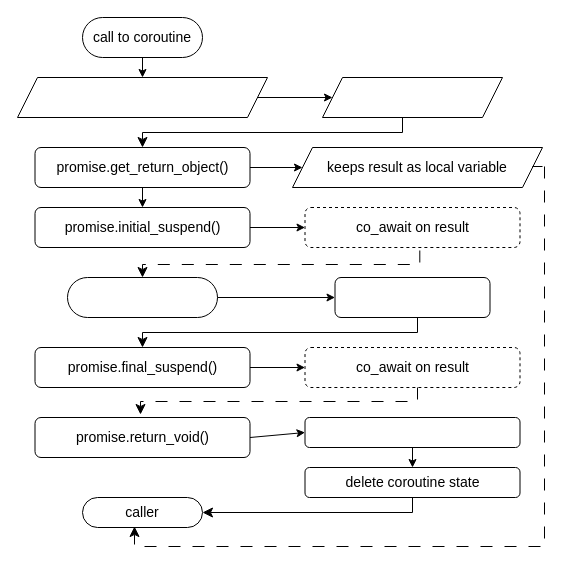
Image size: 572x574. Some labels were removed from this diagram. The centre of each missing label's shape, as x and y in pixels:
"allocates coroutine state on heap" goes at (x=142, y=97).
"co_return" goes at (x=412, y=297).
"constructs promise" goes at (x=412, y=97).
"coroutine body" goes at (x=142, y=297).
"destroys promise" goes at (x=412, y=432).
